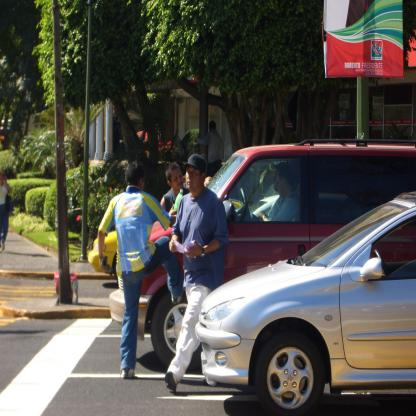Car: (106, 136, 416, 372), (192, 186, 416, 416), (86, 228, 118, 275)
